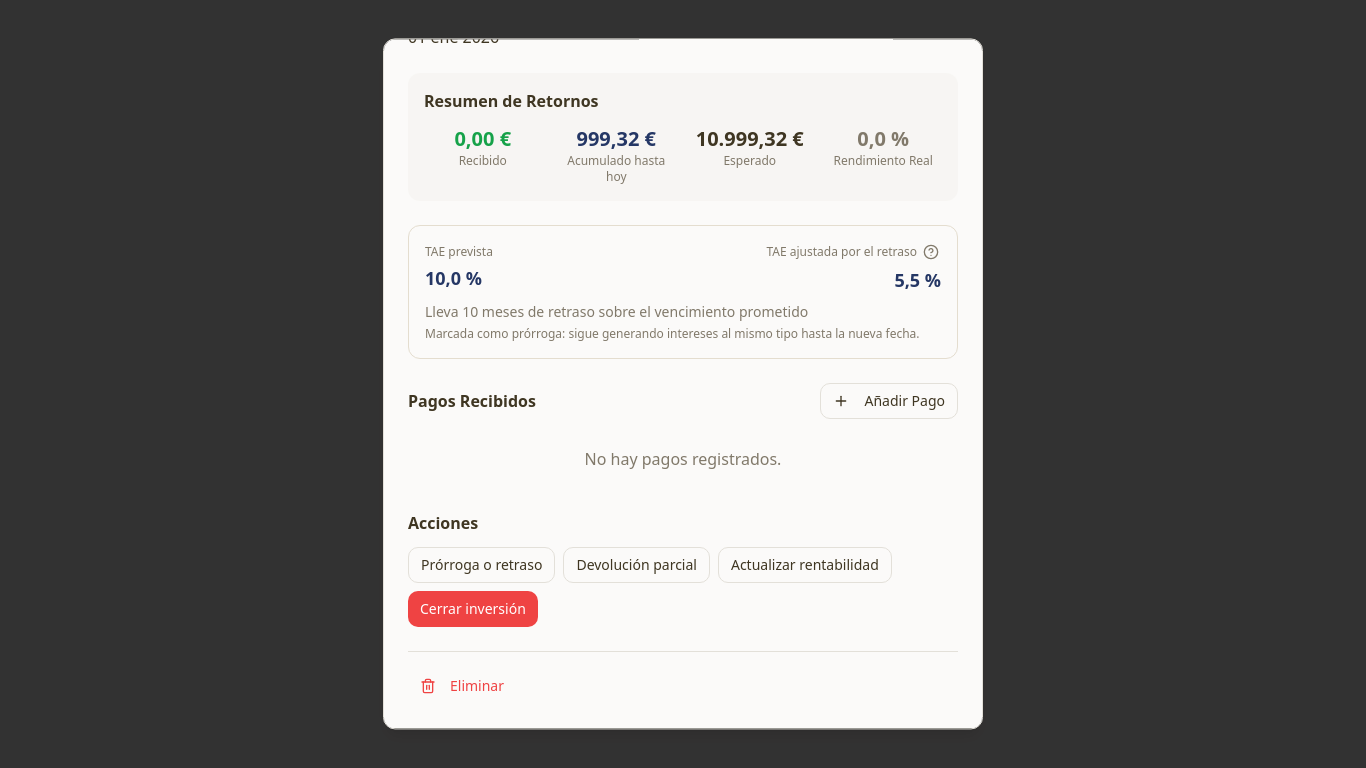
Scenario: InvestmentDetail — retrasos › el formulario de prórroga o retraso guarda la opción elegida
This screenshot has width=1366, height=768.
(page scrolled)
What coordinates should you click on to do the following:
click the button "Prórroga o retraso"
I would click on:
 (482, 565)
Its box is [408,547,555,583].
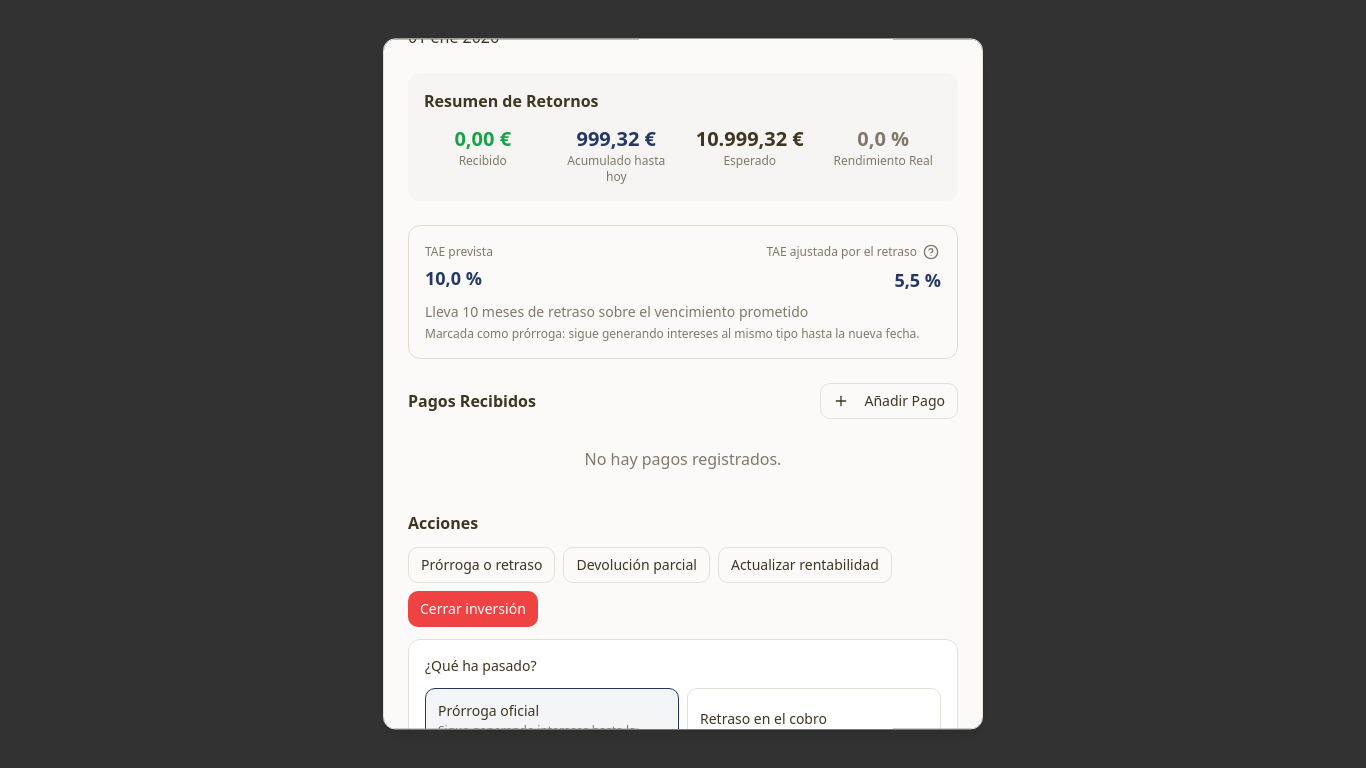
What coordinates should you click on to do the following:
click the button "Retraso en el cobro Cobrarás lo prometido, pero más tarde"
I would click on:
 (814, 728)
Its box is [687,688,941,767].
(page scrolled)
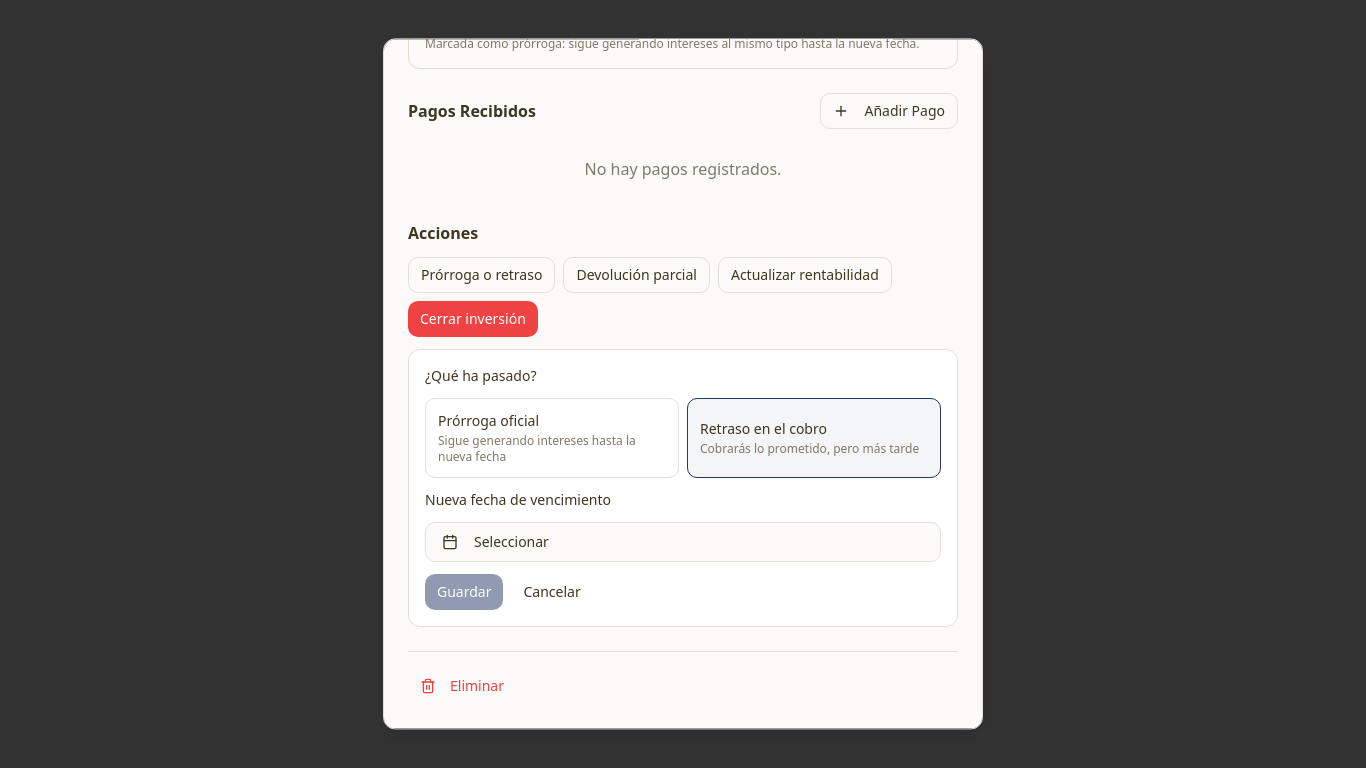
Now the button "Guardar" is disabled, box [425,574,504,610]
